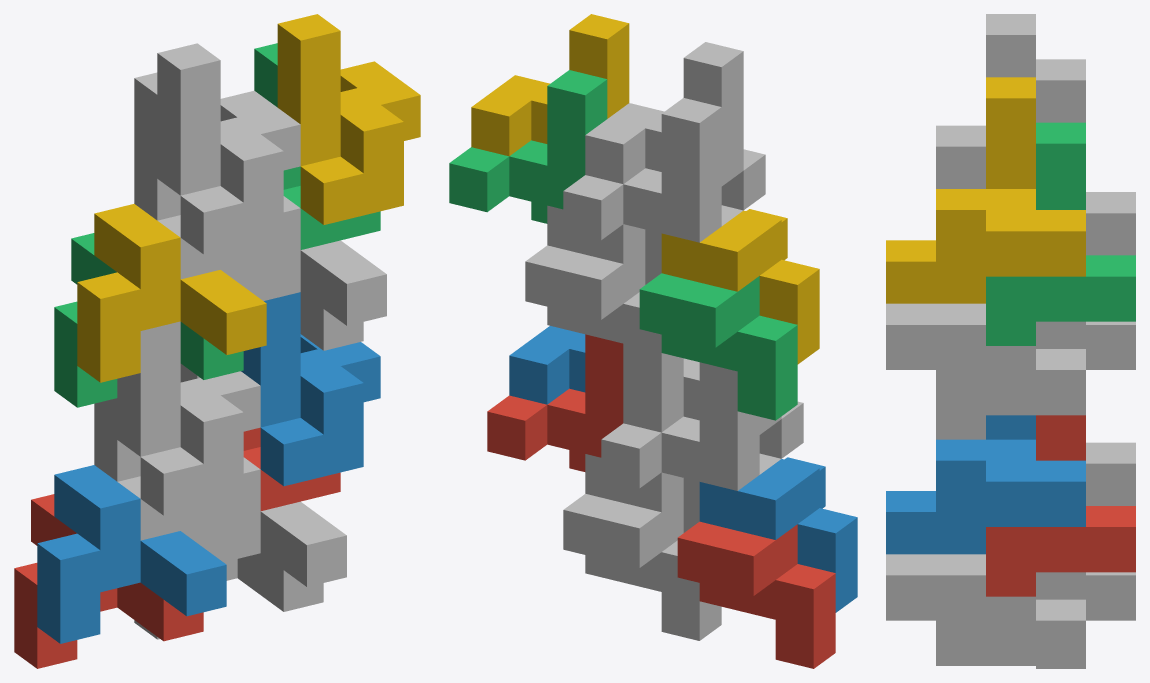
Rendered from tiling.obj.
3 renders of one model, left to right at view 1: azimuth 30°, elevation 25°; view 2: azimuth 150°, elevation 25°; view 3: azimuth 270°, elevation 25°, orthographic. The views are drawn at different scales.
Parts seen in each view (by area): view 1: copy_2_domain_4, copy_2_domain_8, copy_1_domain_2, copy_1_domain_4, copy_2_domain_2, copy_2_domain_6, copy_1_domain_6, copy_1_domain_8, copy_1_domain_1, copy_1_domain_3, copy_2_domain_3, copy_2_domain_1 (+4 smaller); view 2: copy_2_domain_3, copy_1_domain_1, copy_1_domain_3, copy_2_domain_1, copy_2_domain_4, copy_1_domain_7, copy_1_domain_5, copy_2_domain_7, copy_1_domain_4, copy_1_domain_2, copy_2_domain_5, copy_2_domain_8 (+4 smaller); view 3: copy_2_domain_8, copy_2_domain_6, copy_2_domain_7, copy_1_domain_5, copy_1_domain_7, copy_2_domain_5, copy_1_domain_6, copy_1_domain_8, copy_2_domain_3, copy_2_domain_4, copy_1_domain_2, copy_1_domain_4 (+2 smaller).
Part boxes in pixels (bbox=[...]): copy_2_domain_4: bbox=[157, 43, 300, 254]; copy_2_domain_8: bbox=[277, 14, 420, 224]; copy_1_domain_2: bbox=[37, 465, 226, 643]; copy_1_domain_4: bbox=[77, 204, 266, 382]; copy_2_domain_2: bbox=[117, 321, 260, 515]; copy_2_domain_6: bbox=[241, 292, 380, 486]; copy_1_domain_6: bbox=[181, 457, 346, 586]; copy_1_domain_8: bbox=[221, 196, 386, 325]; copy_1_domain_1: bbox=[14, 494, 203, 668]; copy_1_domain_3: bbox=[54, 233, 243, 407]; copy_2_domain_3: bbox=[134, 72, 260, 279]; copy_2_domain_1: bbox=[94, 398, 220, 540]; copy_2_domain_3: bbox=[563, 98, 742, 251]; copy_1_domain_1: bbox=[677, 521, 835, 668]; copy_1_domain_3: bbox=[639, 273, 797, 420]; copy_2_domain_1: bbox=[601, 362, 780, 499]; copy_2_domain_4: bbox=[585, 42, 765, 210]; copy_1_domain_7: bbox=[525, 245, 683, 392]; copy_1_domain_5: bbox=[563, 494, 721, 640]; copy_2_domain_7: bbox=[449, 70, 607, 223]; copy_1_domain_4: bbox=[661, 209, 819, 364]; copy_1_domain_2: bbox=[699, 457, 857, 612]; copy_2_domain_5: bbox=[487, 334, 623, 471]; copy_2_domain_8: bbox=[471, 14, 629, 156]; copy_2_domain_8: bbox=[936, 77, 1085, 300]; copy_2_domain_6: bbox=[936, 415, 1085, 551]; copy_2_domain_7: bbox=[986, 122, 1135, 345]; copy_1_domain_5: bbox=[936, 572, 1135, 668]; copy_1_domain_7: bbox=[936, 321, 1135, 415]; copy_2_domain_5: bbox=[986, 415, 1135, 596]; copy_1_domain_6: bbox=[886, 554, 1085, 620]; copy_1_domain_8: bbox=[886, 303, 1085, 369]; copy_2_domain_3: bbox=[1036, 59, 1135, 255]; copy_2_domain_4: bbox=[936, 14, 1035, 188]; copy_1_domain_2: bbox=[886, 491, 985, 554]; copy_1_domain_4: bbox=[886, 240, 985, 303].
Bounding box in the file's own units: 9 × 14 × 5.
